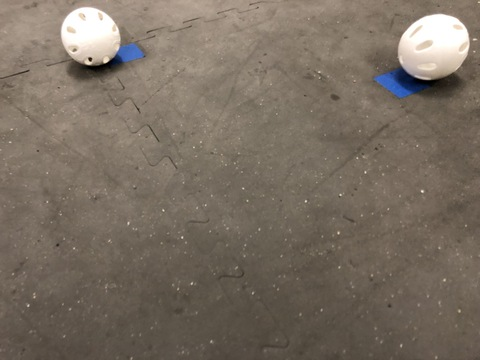ball: (390, 10, 478, 82), (53, 3, 131, 71)
